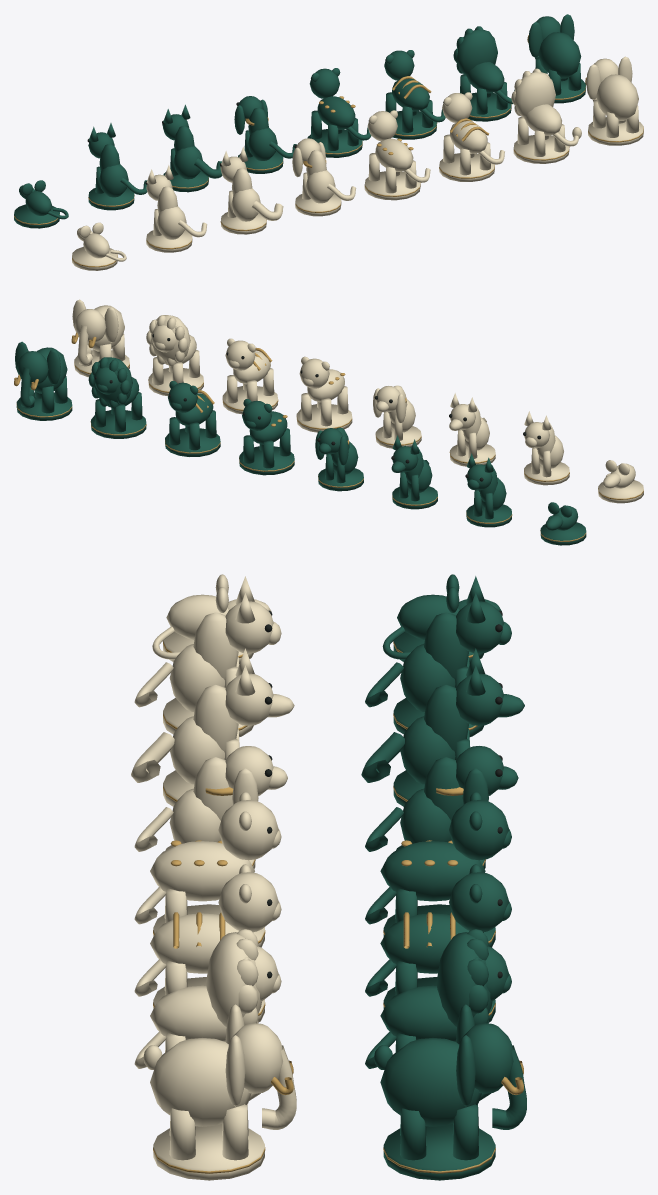
Rendered from collection.glb.
3 views of the same model, one above another, from view 1: azimuth 30°, elevation 25°; view 2: azimuth 150°, elevation 25°; view 3: azimuth 270°, elevation 25° (orthographic). The views are drawn at different scales.
Parts seen in each view (by area): view 1: Elephant body, Elephant body.001, Lion mane, Lion mane.001, Long cat body.003, Long cat body, Foot.004, Foot.006, Foot.005, Long cat body.005, Long cat body.002, Long cat body.004 (+35 smaller); view 2: Foot.012, Foot.014, Foot.013, Foot.004, Foot.015, Elephant head.001, Elephant head, Foot.008, Foot, Long cat body.003, Long cat body, Foot.010 (+29 smaller); view 3: Elephant body.001, Elephant body, Long cat body, Long cat body.003, Foot.015, Foot.007, Long cat body.001, Long cat body.005, Long cat body.002, Long cat body.004, Animal head.009, Animal head.003 (+38 smaller).
Boxes of the visible parts, x1,y1,x2,y2 form: Elephant body: [596, 74, 638, 121]; Elephant body.001: [538, 32, 581, 78]; Lion mane: [514, 72, 555, 119]; Lion mane.001: [457, 30, 497, 76]; Long cat body.003: [317, 96, 355, 129]; Long cat body: [375, 138, 413, 171]; Foot.004: [364, 171, 420, 200]; Foot.006: [513, 135, 569, 163]; Foot.005: [439, 153, 494, 181]; Long cat body.005: [466, 62, 504, 93]; Long cat body.002: [524, 104, 561, 135]; Long cat body.004: [392, 78, 429, 111]; Foot.012: [239, 446, 294, 475]; Foot.014: [91, 410, 146, 438]; Foot.013: [165, 428, 220, 456]; Foot.004: [296, 404, 352, 432]; Foot.015: [16, 392, 72, 420]; Elephant head.001: [17, 351, 48, 385]; Elephant head: [74, 309, 106, 343]; Foot.008: [540, 522, 586, 545]; Foot: [598, 480, 643, 503]; Long cat body.003: [249, 411, 287, 444]; Long cat body: [307, 369, 344, 402]; Foot.010: [392, 486, 437, 509]; Elephant body.001: [380, 1038, 481, 1126]; Elephant body: [150, 1038, 251, 1126]; Long cat body: [150, 841, 254, 901]; Long cat body.003: [380, 841, 485, 901]; Foot.015: [383, 1123, 495, 1180]; Foot.007: [153, 1123, 264, 1180]; Long cat body.001: [150, 913, 238, 973]; Long cat body.005: [380, 985, 456, 1041]; Long cat body.002: [150, 985, 226, 1041]; Long cat body.004: [380, 913, 468, 973]; Animal head.009: [449, 800, 509, 860]; Animal head.003: [218, 800, 278, 860].
Bounding box in the file's own units: 0.3952 × 0.0504 × 0.1203.
